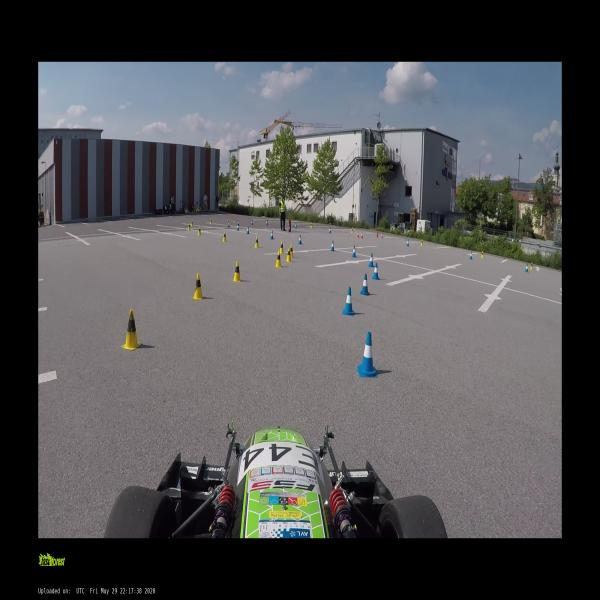blue_cone: (357, 332, 378, 377), (342, 287, 355, 315), (361, 274, 369, 294), (372, 262, 380, 280), (368, 254, 374, 266), (352, 245, 356, 257), (270, 230, 274, 240), (298, 235, 302, 244), (331, 240, 334, 251), (246, 226, 250, 234), (525, 264, 528, 272), (406, 239, 409, 246), (237, 220, 240, 227), (470, 252, 472, 260), (228, 220, 230, 228), (237, 224, 239, 231), (329, 228, 331, 234), (295, 223, 297, 228), (252, 220, 253, 226), (267, 219, 268, 225)
orange_cone: (357, 231, 359, 238), (361, 231, 363, 238), (381, 232, 383, 238), (377, 232, 378, 237)
yellow_cone: (121, 309, 142, 349), (192, 274, 205, 300), (233, 261, 242, 282), (276, 250, 281, 268), (287, 248, 291, 262), (289, 244, 293, 258), (280, 241, 284, 254), (255, 236, 259, 248), (222, 231, 226, 242), (198, 226, 202, 235), (530, 262, 533, 270), (420, 240, 423, 246), (482, 251, 484, 258), (191, 219, 193, 226), (188, 224, 190, 230), (210, 218, 212, 224), (351, 228, 353, 233), (233, 217, 235, 222), (311, 222, 312, 228)
